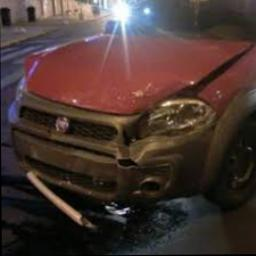Bumper: (8, 115, 179, 233)
Light: (138, 101, 215, 138)
